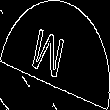M_S: (35, 23, 75, 87)
